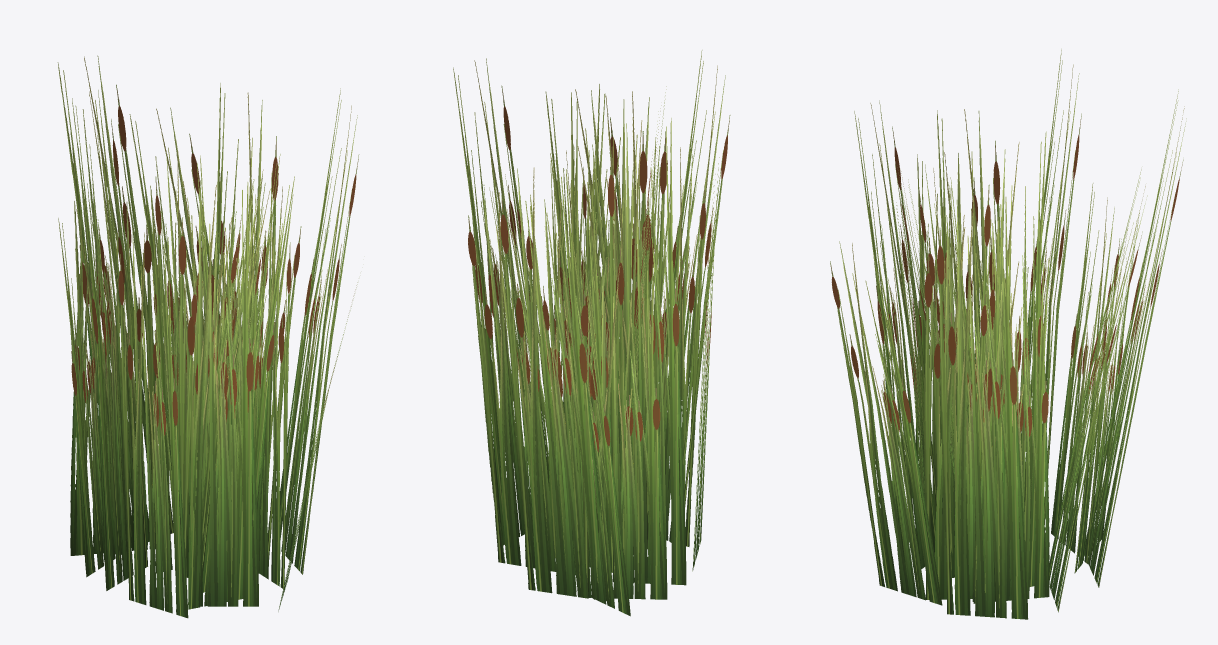
File: Grass_Reeds_A.fbx
3 views of the same model, side by side, from view 1: azimuth 30°, elevation 25°; view 2: azimuth 150°, elevation 25°; view 3: azimuth 270°, elevation 25° (orthographic). The views are drawn at different scales.
Parts seen in each view (by area): view 1: Grass_Reeds_A_LOD0; view 2: Grass_Reeds_A_LOD0; view 3: Grass_Reeds_A_LOD0.
Boxes of the visible parts, left/top/right/bottom form: Grass_Reeds_A_LOD0: left=57, top=55, right=359, bottom=618; Grass_Reeds_A_LOD0: left=453, top=50, right=730, bottom=616; Grass_Reeds_A_LOD0: left=830, top=49, right=1186, bottom=619.
Size of what is drawn, in the model's own units: 0.8702 by 1.42 by 1.08.
